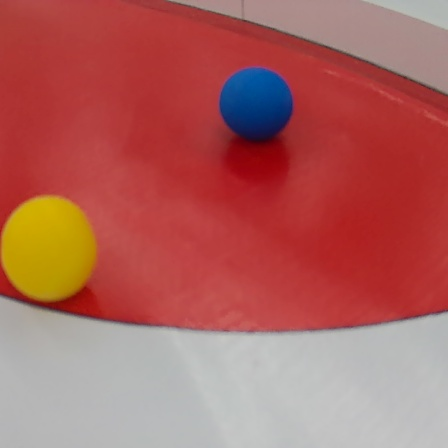blue: (219, 67, 290, 141)
red_base: (0, 0, 443, 331)
yellow: (1, 195, 99, 302)
